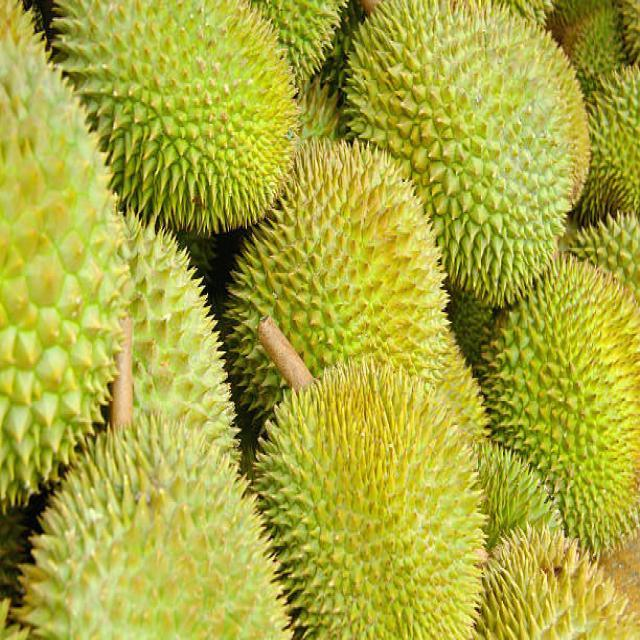immature: (344, 0, 592, 307), (223, 135, 452, 437), (250, 354, 487, 640), (51, 0, 302, 242)
